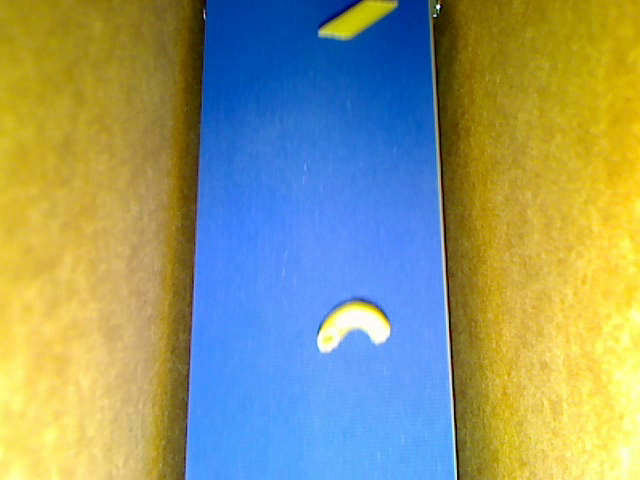elbow: (315, 298, 392, 353)
penne: (317, 1, 397, 40)
